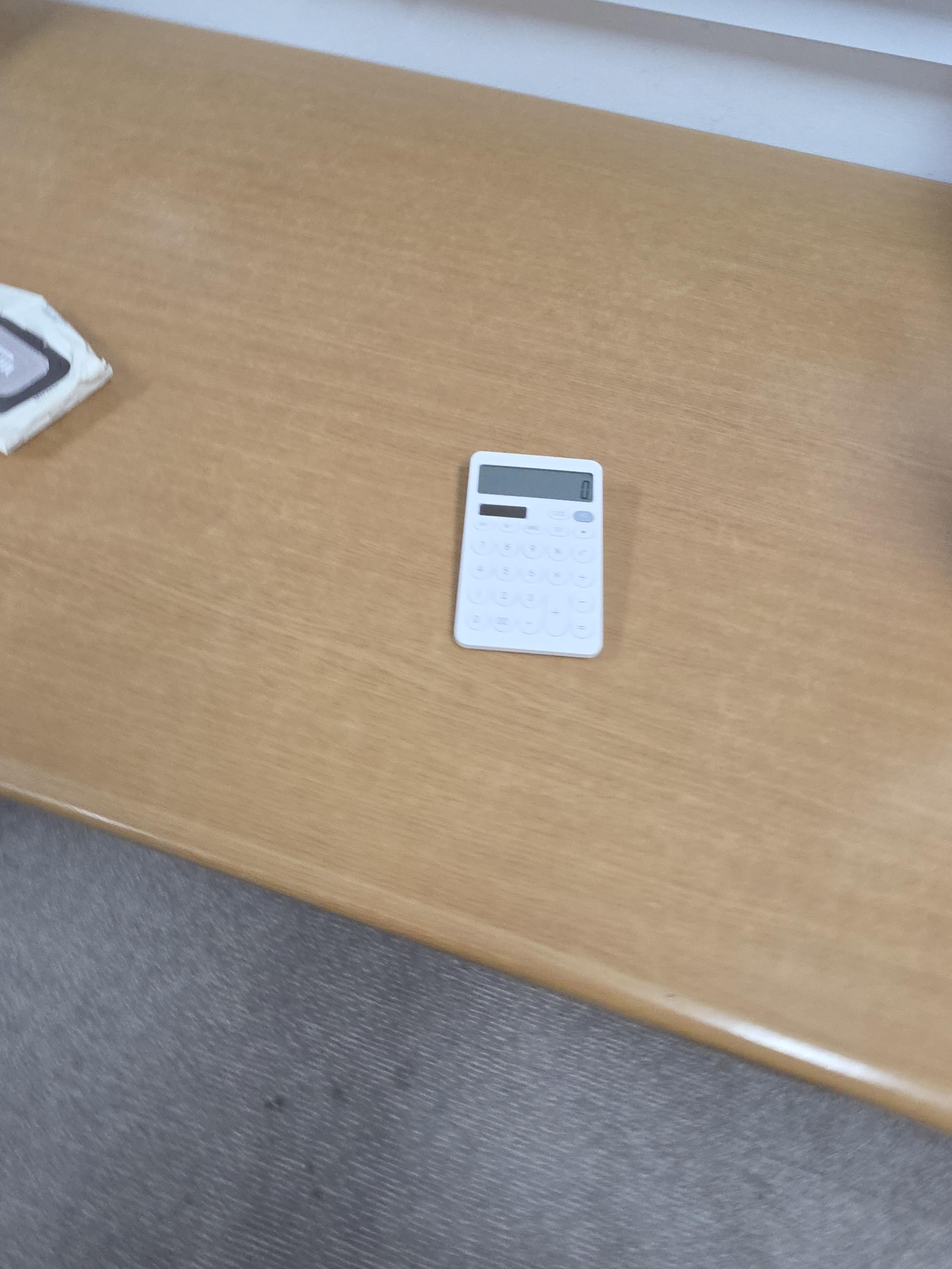calculator: (454, 451, 604, 658)
tissue: (0, 283, 113, 455)
